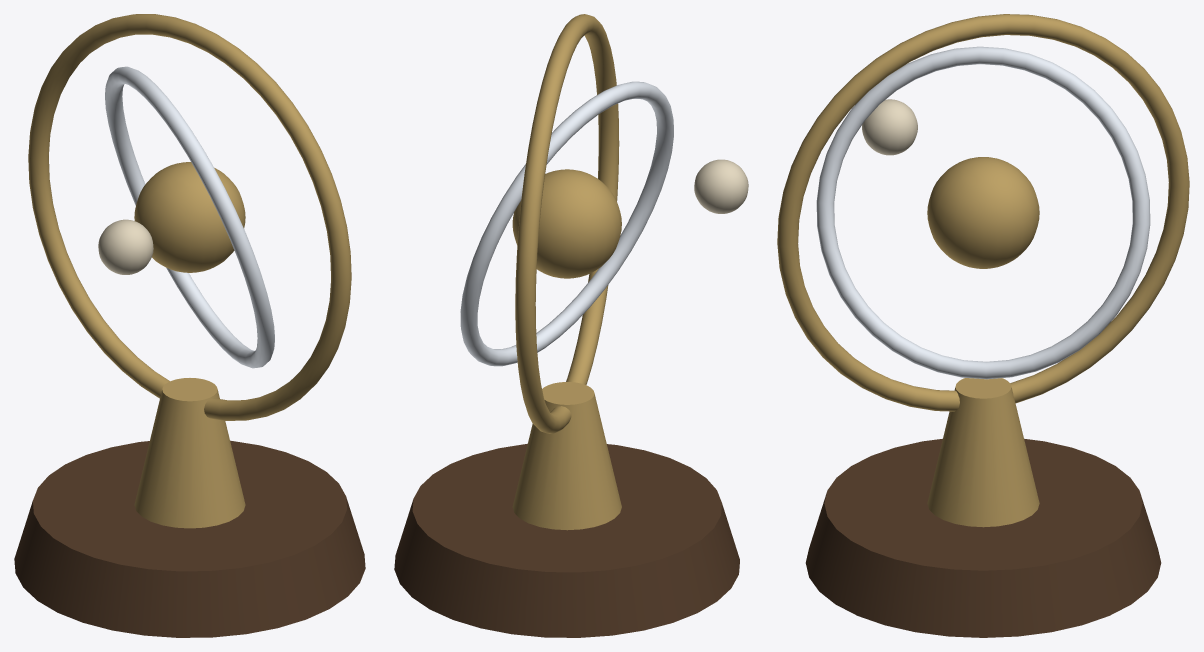
Rendered from atelier-decor-orrery-heritage.glb.
The picture shows the model from 3 angles, left to right: view 1: azimuth 30°, elevation 25°; view 2: azimuth 150°, elevation 25°; view 3: azimuth 270°, elevation 25°; orthographic projection. The views are drawn at different scales.
Bounding box in the file's own units: 0.152 × 0.2575 × 0.1763.
